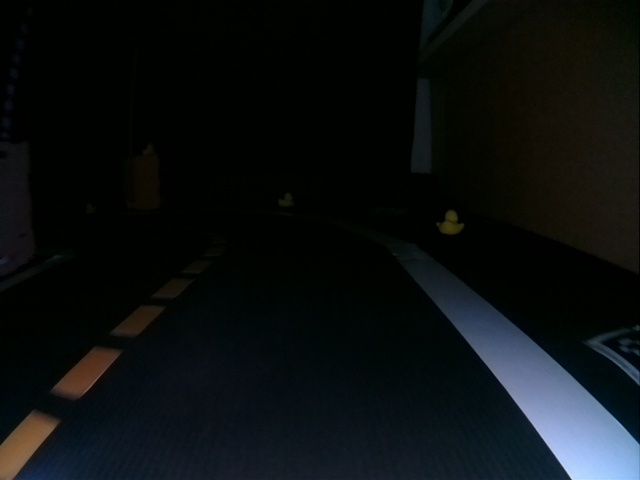Duckie: (436, 210, 465, 234), (277, 192, 294, 207), (144, 143, 153, 153)
QR code: (584, 320, 639, 384)
